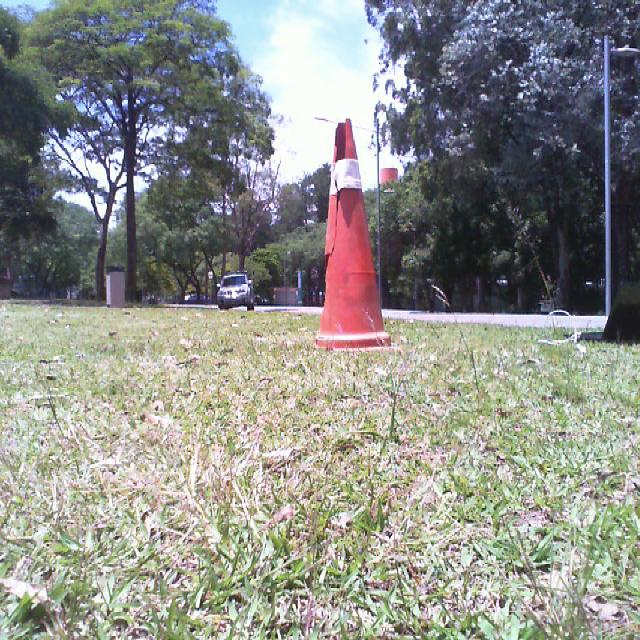cone: (312, 118, 394, 354)
